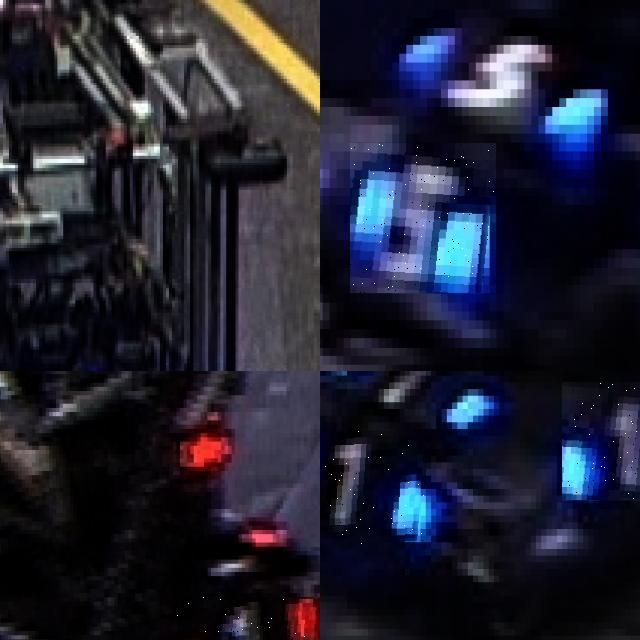B1: (320, 429, 425, 549), (320, 371, 483, 435), (562, 382, 640, 502)
B5: (351, 143, 496, 293)
R1: (173, 597, 320, 640)
